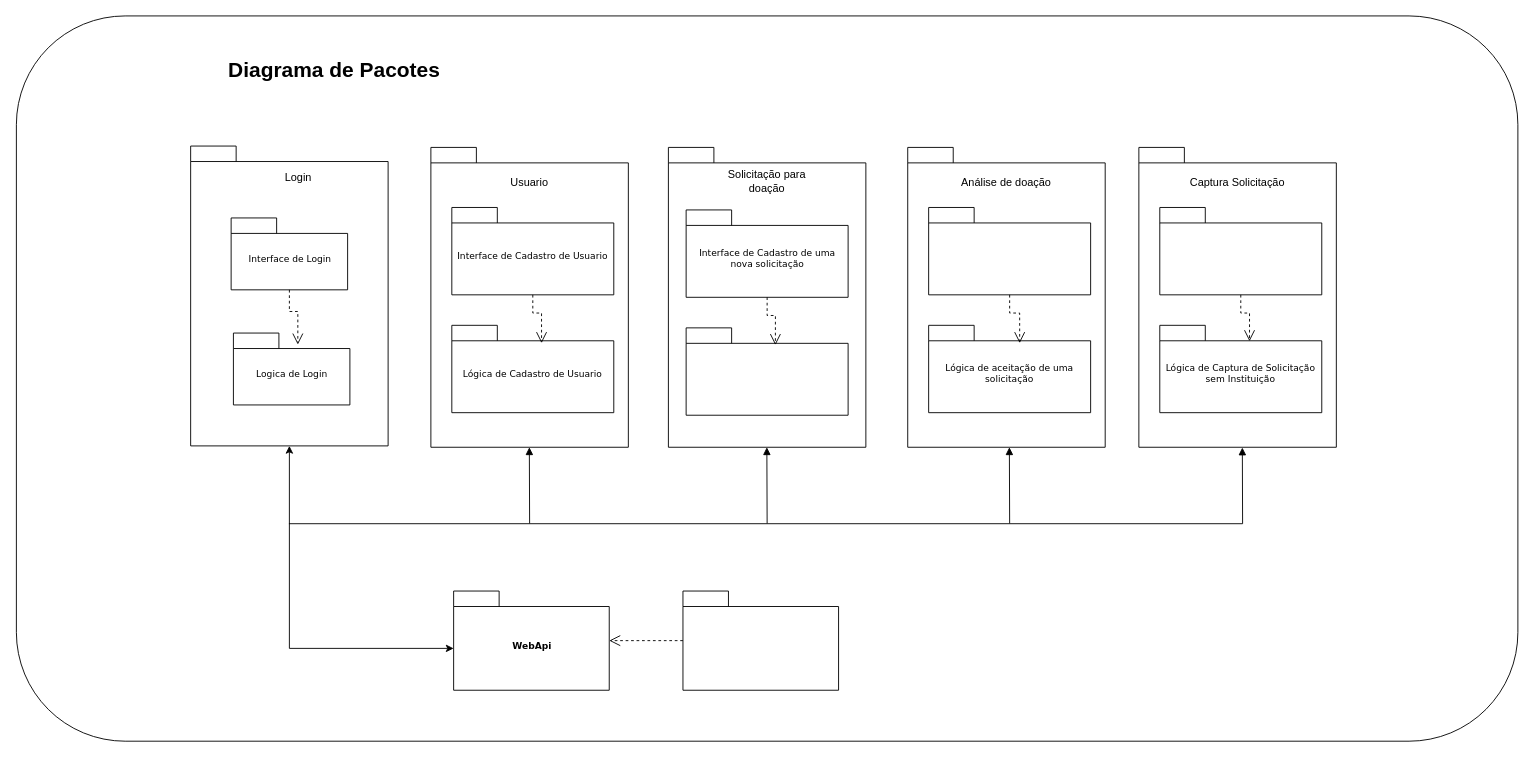
This 1533x757 diagram has some shape labels left out. The shapes that lost their labels are listed below. From the top down, each one's box as (x1, y1, x2, y2) in pixels, then its label:
(928, 207, 1091, 295): Interface de Visualização de solicitações
(1159, 207, 1322, 295): Interface de Captura de Solicitação sem Instituição
(685, 327, 848, 415): Lógica de Cadastro de uma nova solicitação
(682, 590, 839, 690): Banco de dados
